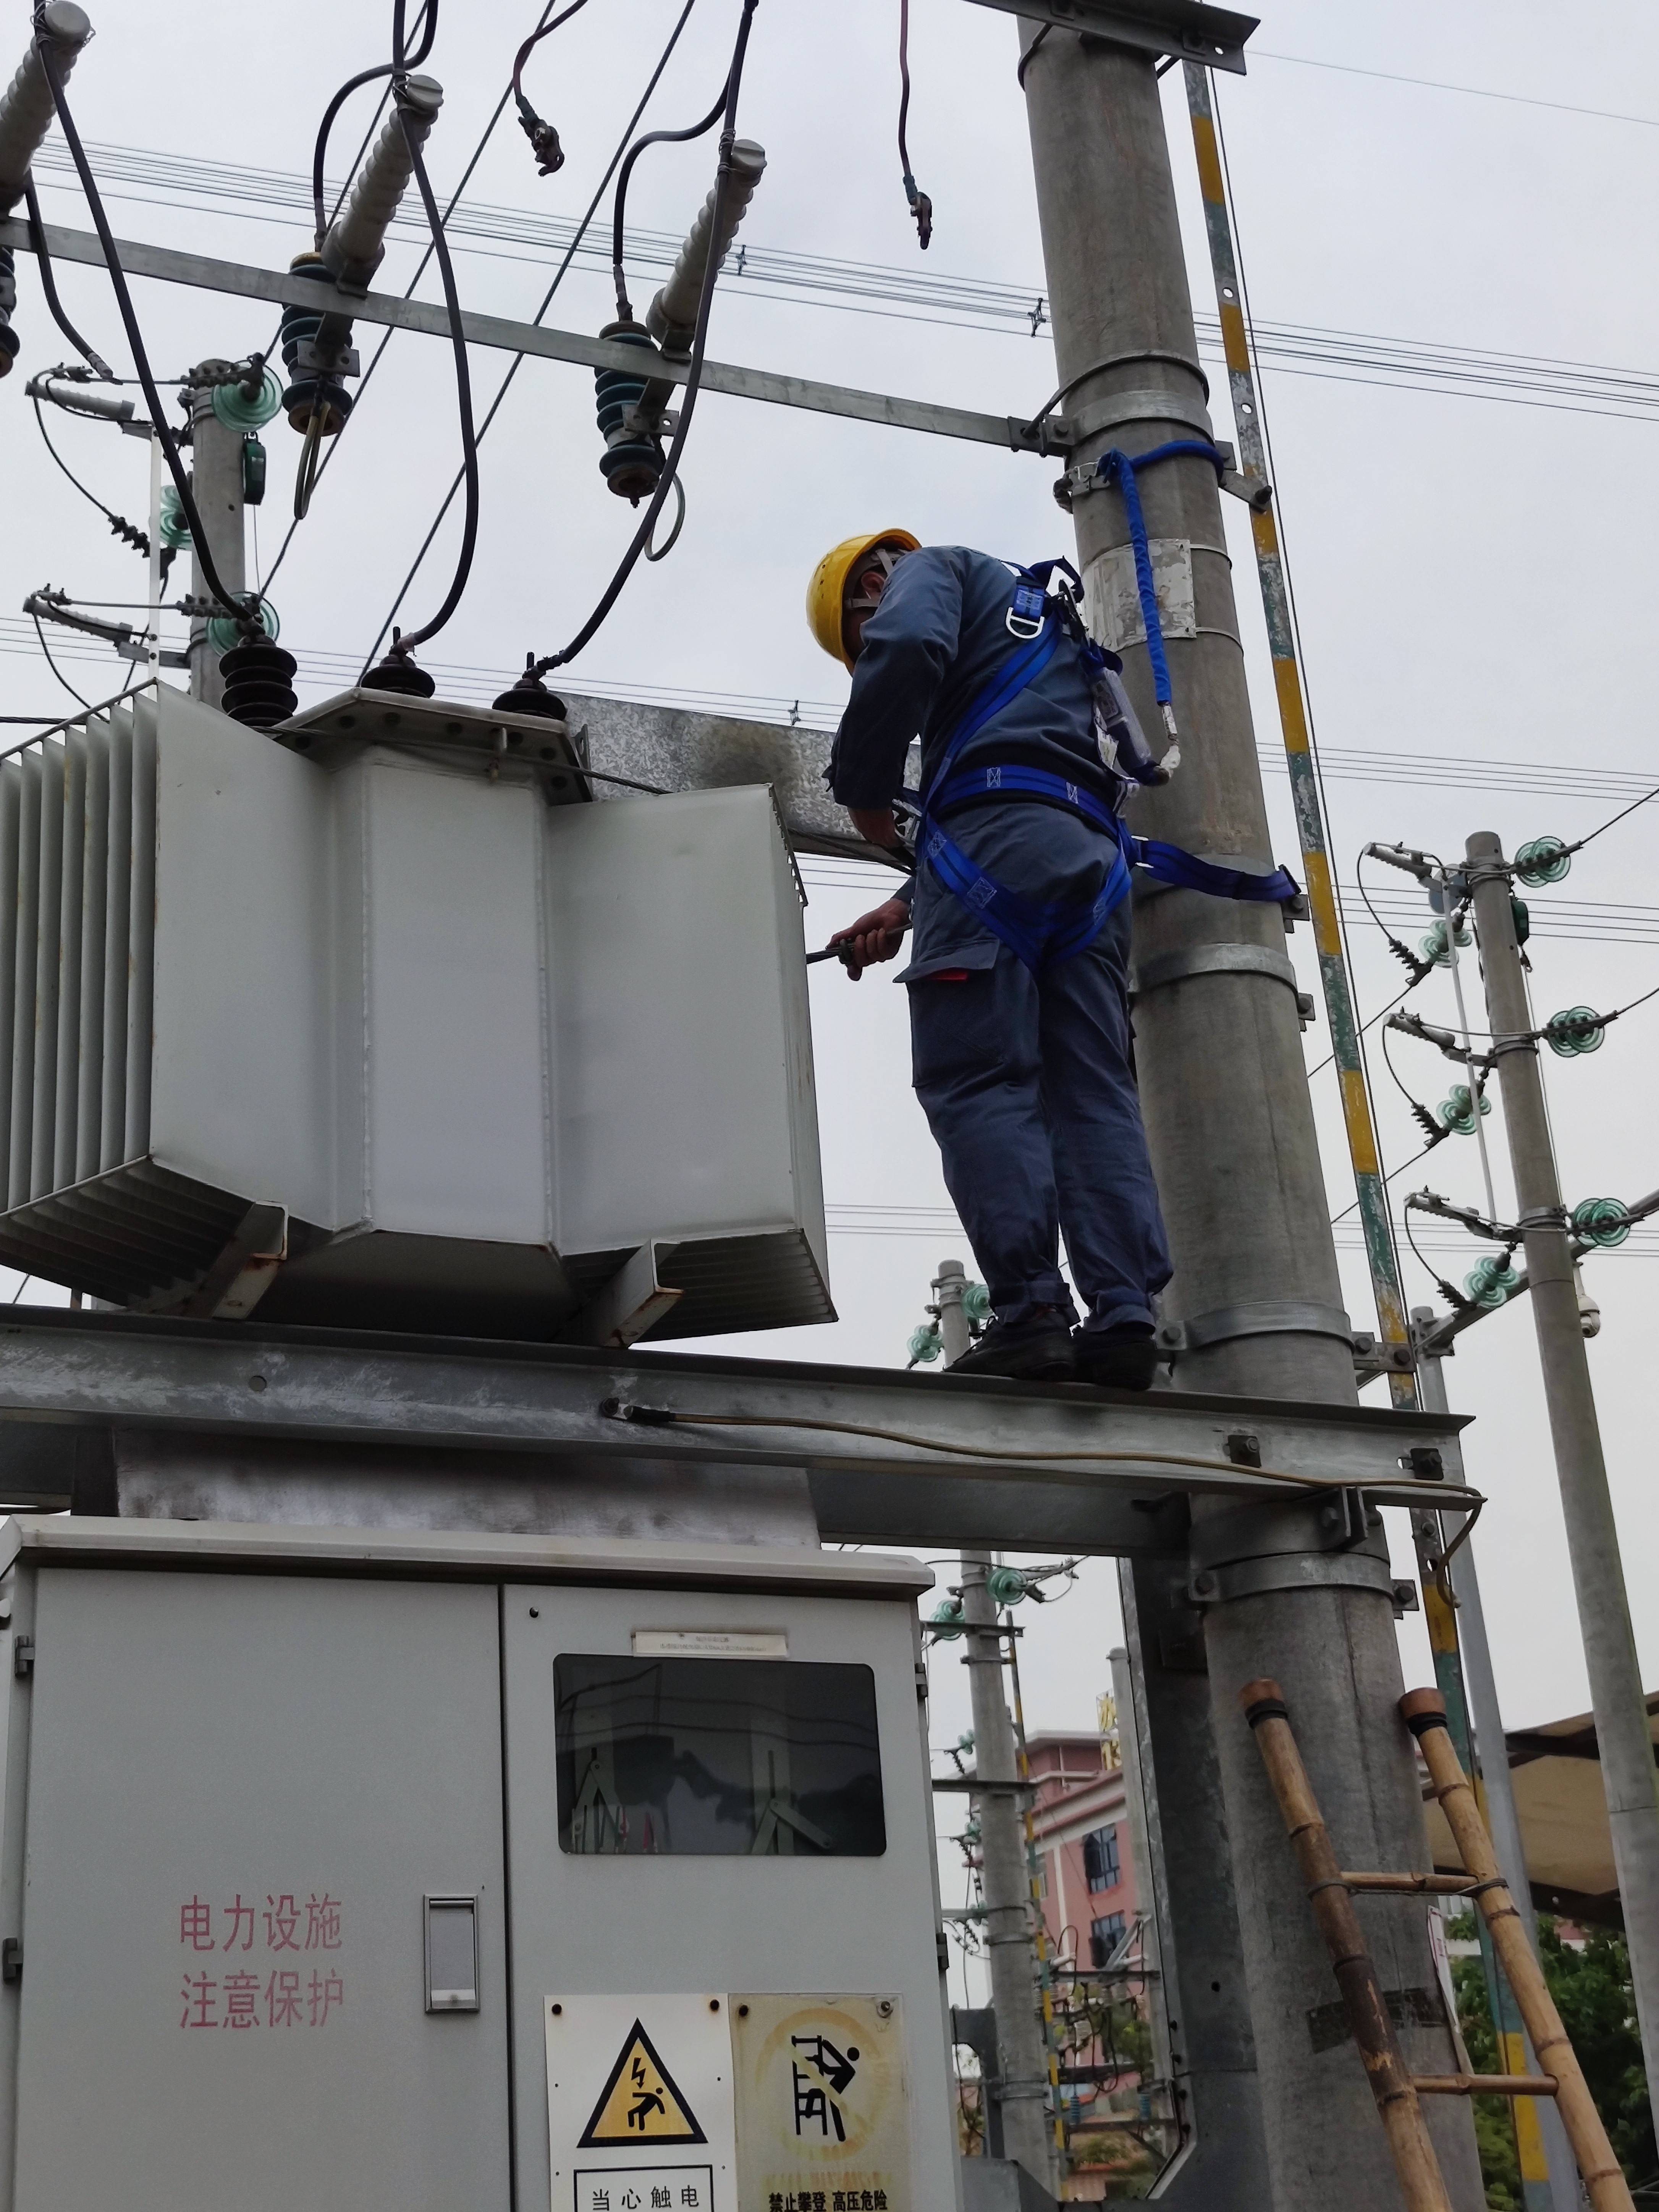downsuit: (899, 824, 1175, 1315)
upsuit: (829, 543, 1131, 792)
